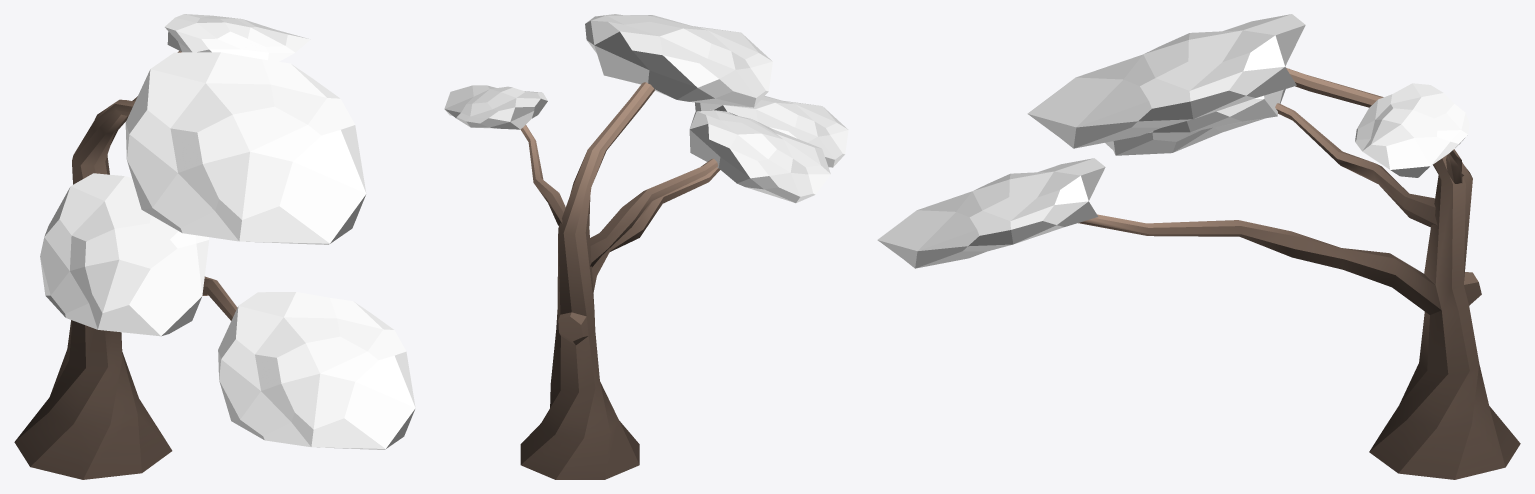
Rendered from m_sakuraTree.fbx.
The picture shows the model from 3 angles, left to right: view 1: azimuth 30°, elevation 25°; view 2: azimuth 150°, elevation 25°; view 3: azimuth 270°, elevation 25°; orthographic projection. The views are drawn at different scales.
Visible parts, largest first — view 1: SakuraTree; view 2: SakuraTree; view 3: SakuraTree.
Part boxes in pixels (<box>): SakuraTree: <box>14,14,415,479</box>; SakuraTree: <box>444,14,848,479</box>; SakuraTree: <box>877,14,1520,479</box>.
Size of the model in its own units: 240 by 295 by 399.
